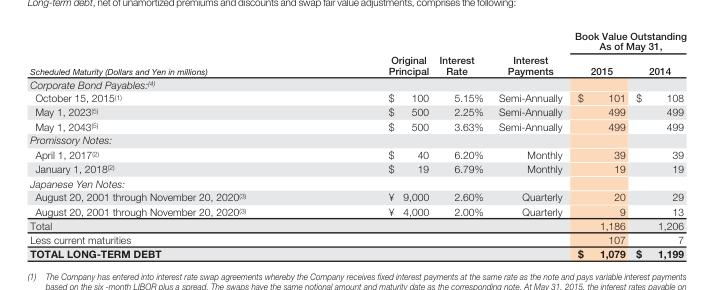table: (29, 29, 685, 259)
table column: (29, 29, 316, 259), (316, 29, 433, 259), (490, 29, 567, 259), (567, 29, 629, 259), (433, 29, 490, 259), (629, 29, 685, 259)
table column header: (29, 29, 685, 76)
table projected row header: (29, 76, 685, 90), (29, 132, 685, 146), (29, 175, 685, 189)
table row: (29, 29, 685, 57), (29, 57, 685, 76), (29, 146, 685, 161), (29, 76, 685, 90), (29, 90, 685, 104), (29, 104, 685, 118), (29, 118, 685, 132), (29, 132, 685, 146), (29, 161, 685, 175), (29, 175, 685, 189), (29, 189, 685, 203), (29, 203, 685, 217), (29, 217, 685, 231), (29, 231, 685, 245), (29, 245, 685, 259)
table spanning cell: (29, 29, 316, 76), (316, 29, 433, 76), (490, 29, 567, 76), (567, 29, 685, 57), (433, 29, 490, 76)
